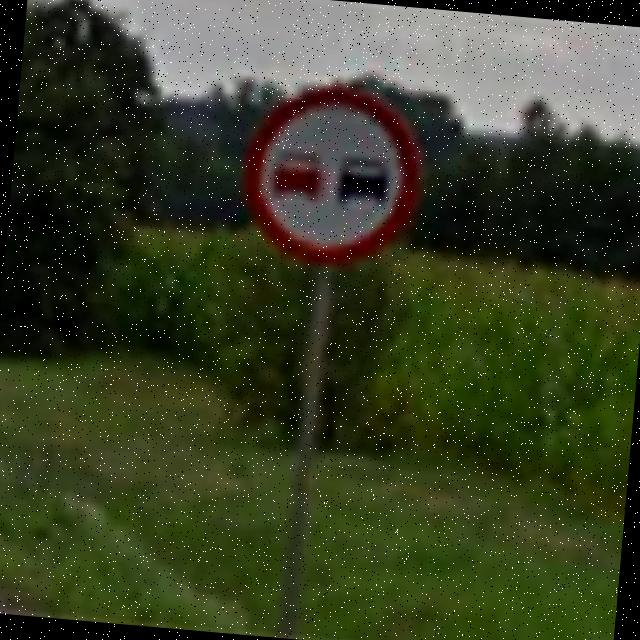Zakaz wyprzedzania: (234, 77, 426, 272)
